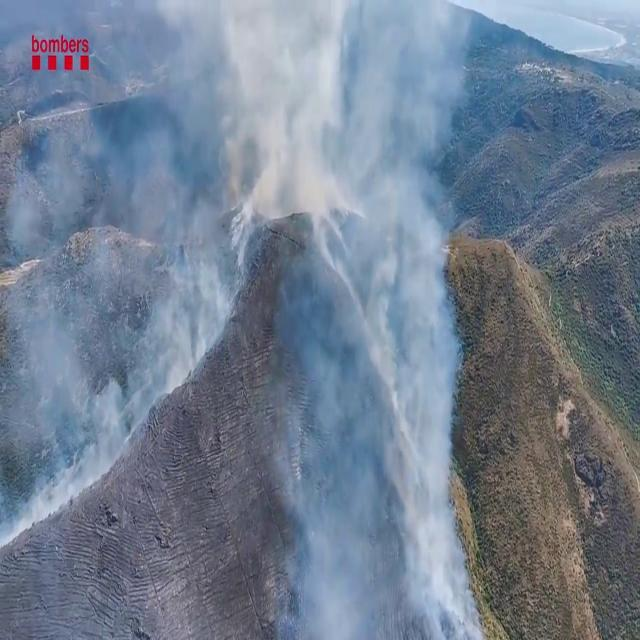Smoke: (235, 2, 487, 638), (0, 28, 244, 554)
